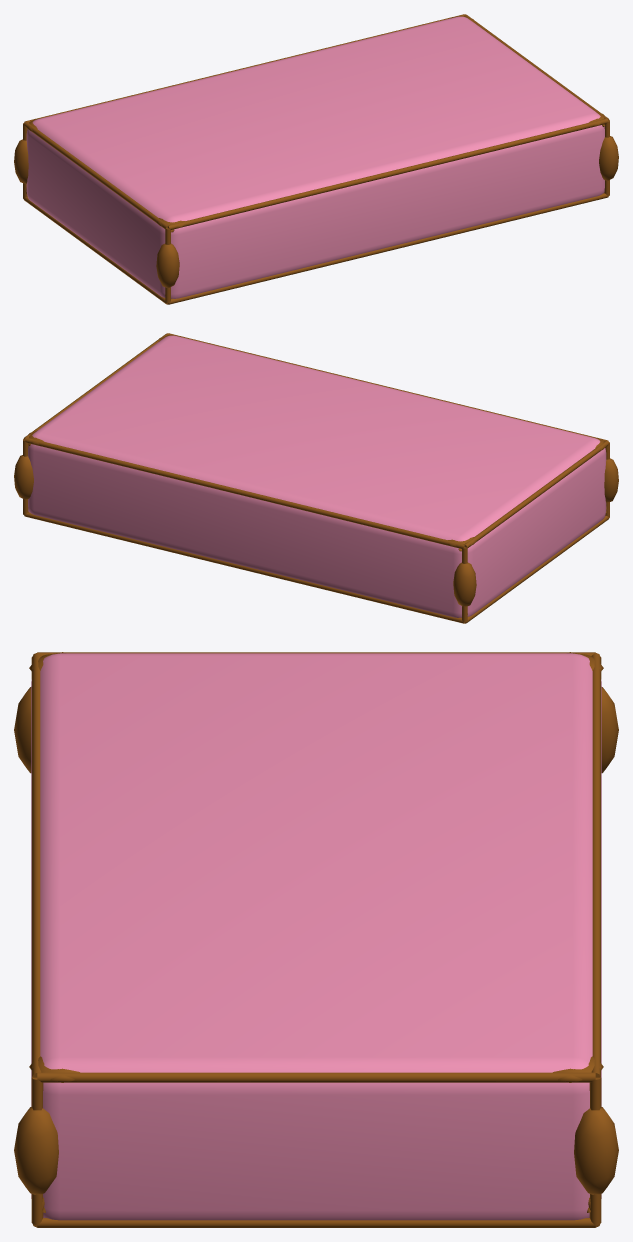
File: living-crystal-platform-v2.glb
3 views of the same model, one above another, from view 1: azimuth 30°, elevation 25°; view 2: azimuth 150°, elevation 25°; view 3: azimuth 270°, elevation 25° (orthographic). The views are drawn at different scales.
Visible parts, largest first — view 1: LivingCrystalPlatformV2_Shell, LivingCrystalPlatformV2_Hardware; view 2: LivingCrystalPlatformV2_Shell, LivingCrystalPlatformV2_Hardware; view 3: LivingCrystalPlatformV2_Shell, LivingCrystalPlatformV2_Hardware.
Part boxes in pixels (x1=…): LivingCrystalPlatformV2_Shell: x1=26, y1=16, x2=604, y2=298; LivingCrystalPlatformV2_Hardware: x1=14, y1=14, x2=618, y2=304; LivingCrystalPlatformV2_Shell: x1=28, y1=335, x2=606, y2=617; LivingCrystalPlatformV2_Hardware: x1=14, y1=333, x2=618, y2=623; LivingCrystalPlatformV2_Shell: x1=31, y1=653, x2=601, y2=1220; LivingCrystalPlatformV2_Hardware: x1=14, y1=652, x2=618, y2=1227.
Size of the model in its own units: 3.1 by 0.55 by 1.8.
